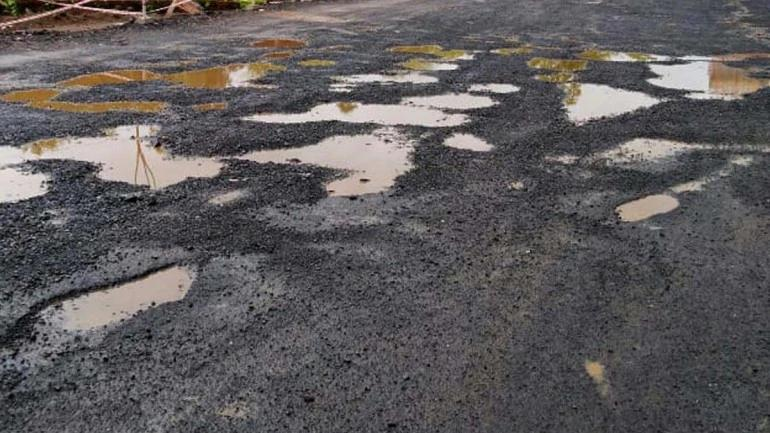Pothole: (0, 12, 763, 228), (486, 21, 769, 128), (0, 245, 209, 363), (561, 122, 761, 245), (429, 116, 511, 164)
